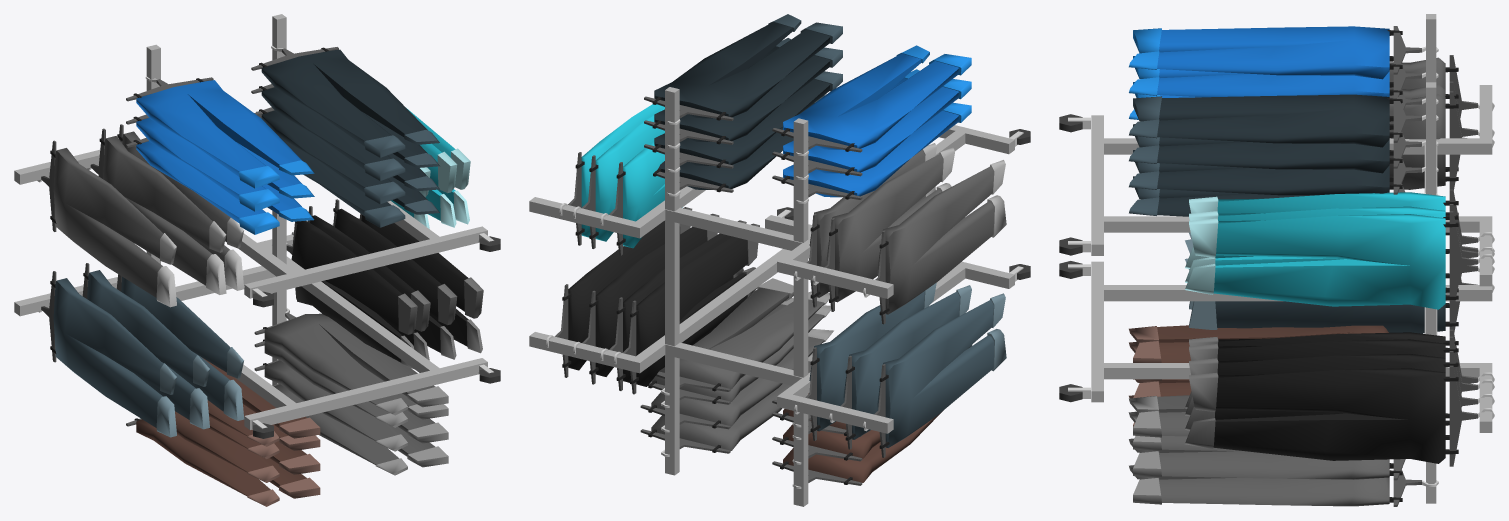
Rendered from rail-c.glb.
3 renders of one model, left to right at view 1: azimuth 30°, elevation 25°; view 2: azimuth 150°, elevation 25°; view 3: azimuth 270°, elevation 25°, orthographic. The views are drawn at different scales.
Parts seen in each view (by area): view 1: clothes_036; view 2: clothes_036; view 3: clothes_036.
Boxes of the visible parts, x1,y1,x2,y2 form: clothes_036: [14, 14, 500, 506]; clothes_036: [529, 14, 1030, 506]; clothes_036: [1059, 14, 1494, 506].
Bounding box in the file's own units: 1.53 × 1.56 × 1.48.
Materials: 1 (1 with a texture image).
